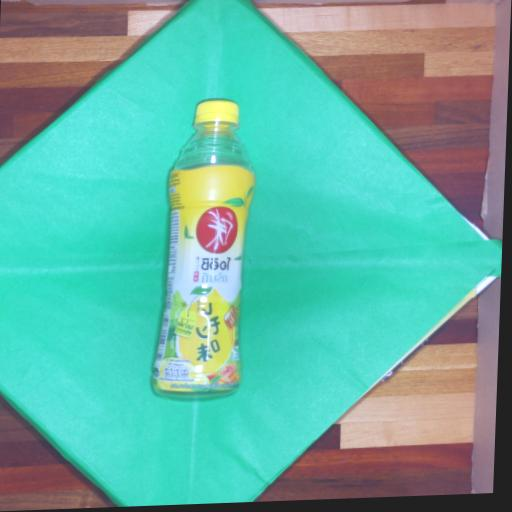bottle: (153, 100, 253, 395)
